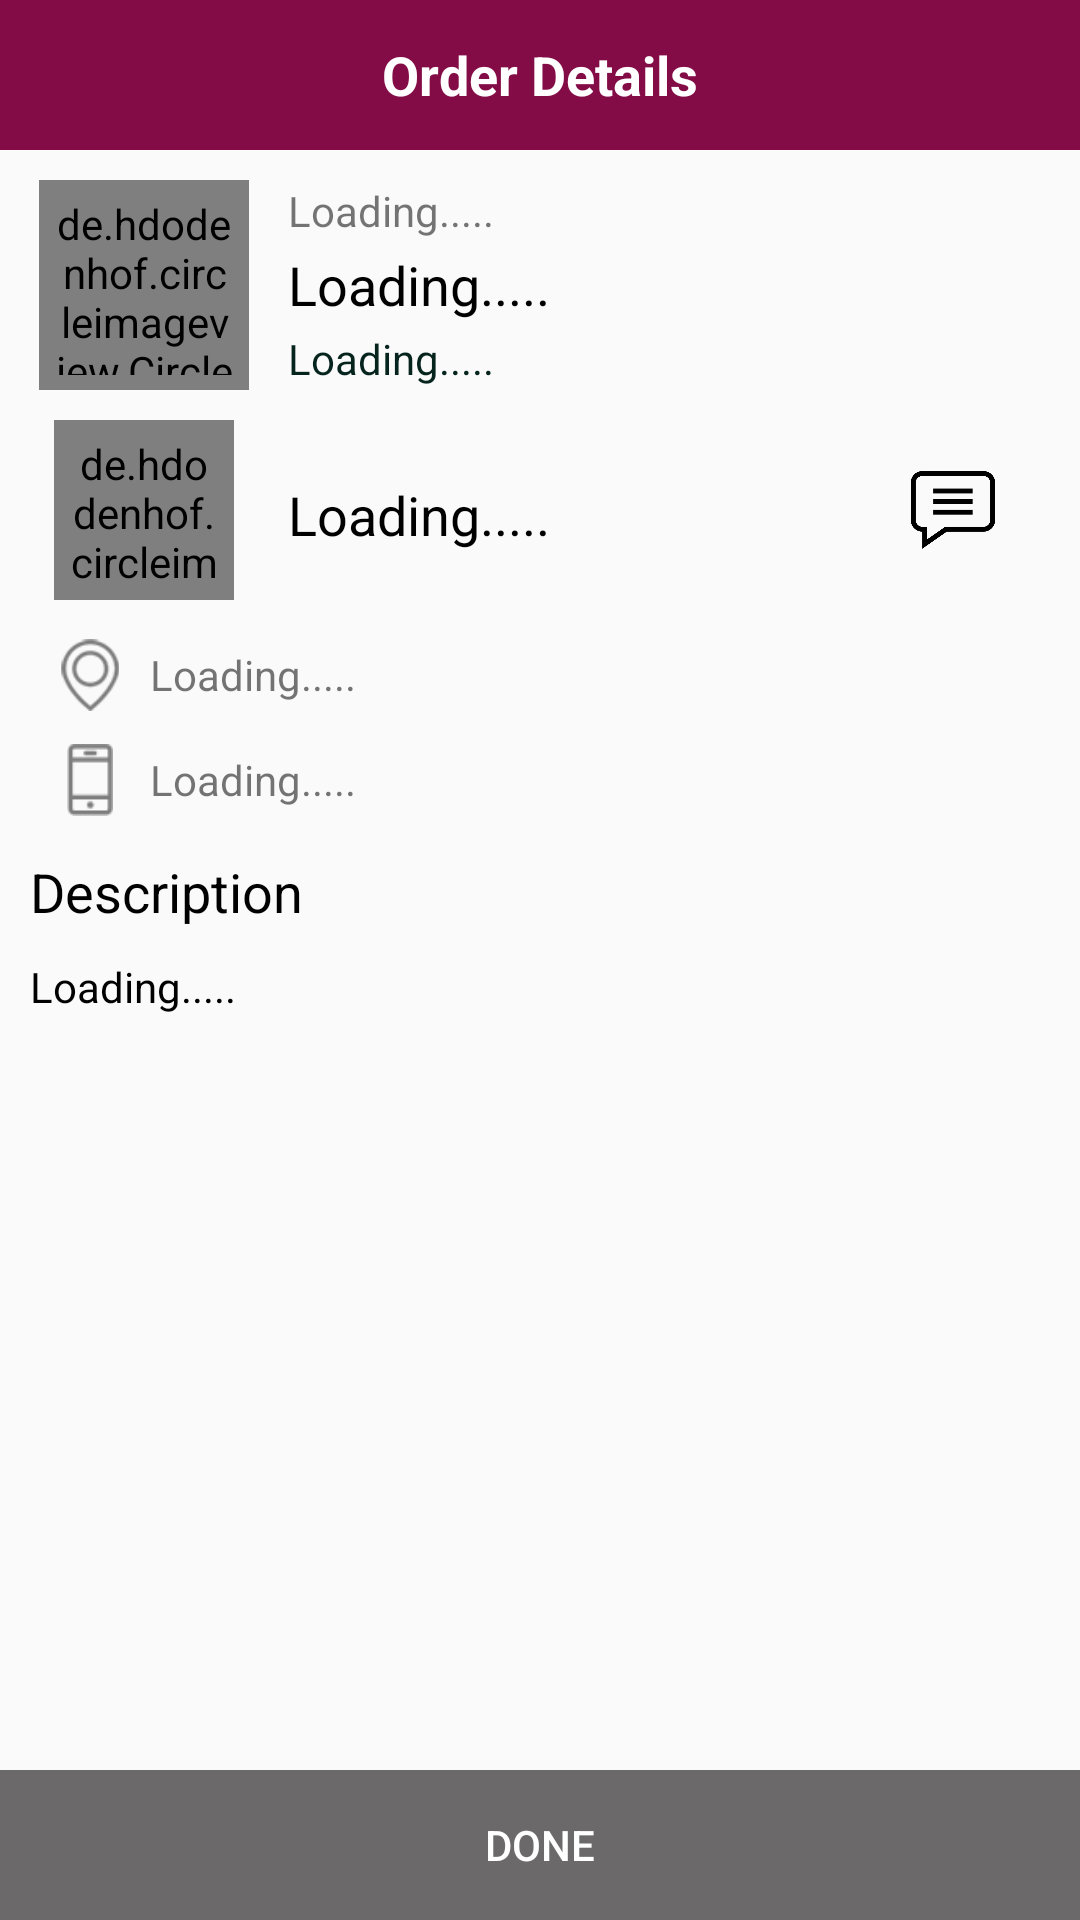

Icons on this 1080w x 1920h Android screen, each with the point to tap as [x,y]:
loc: [90,675]
message: [953,510]
mobile: [90,780]
